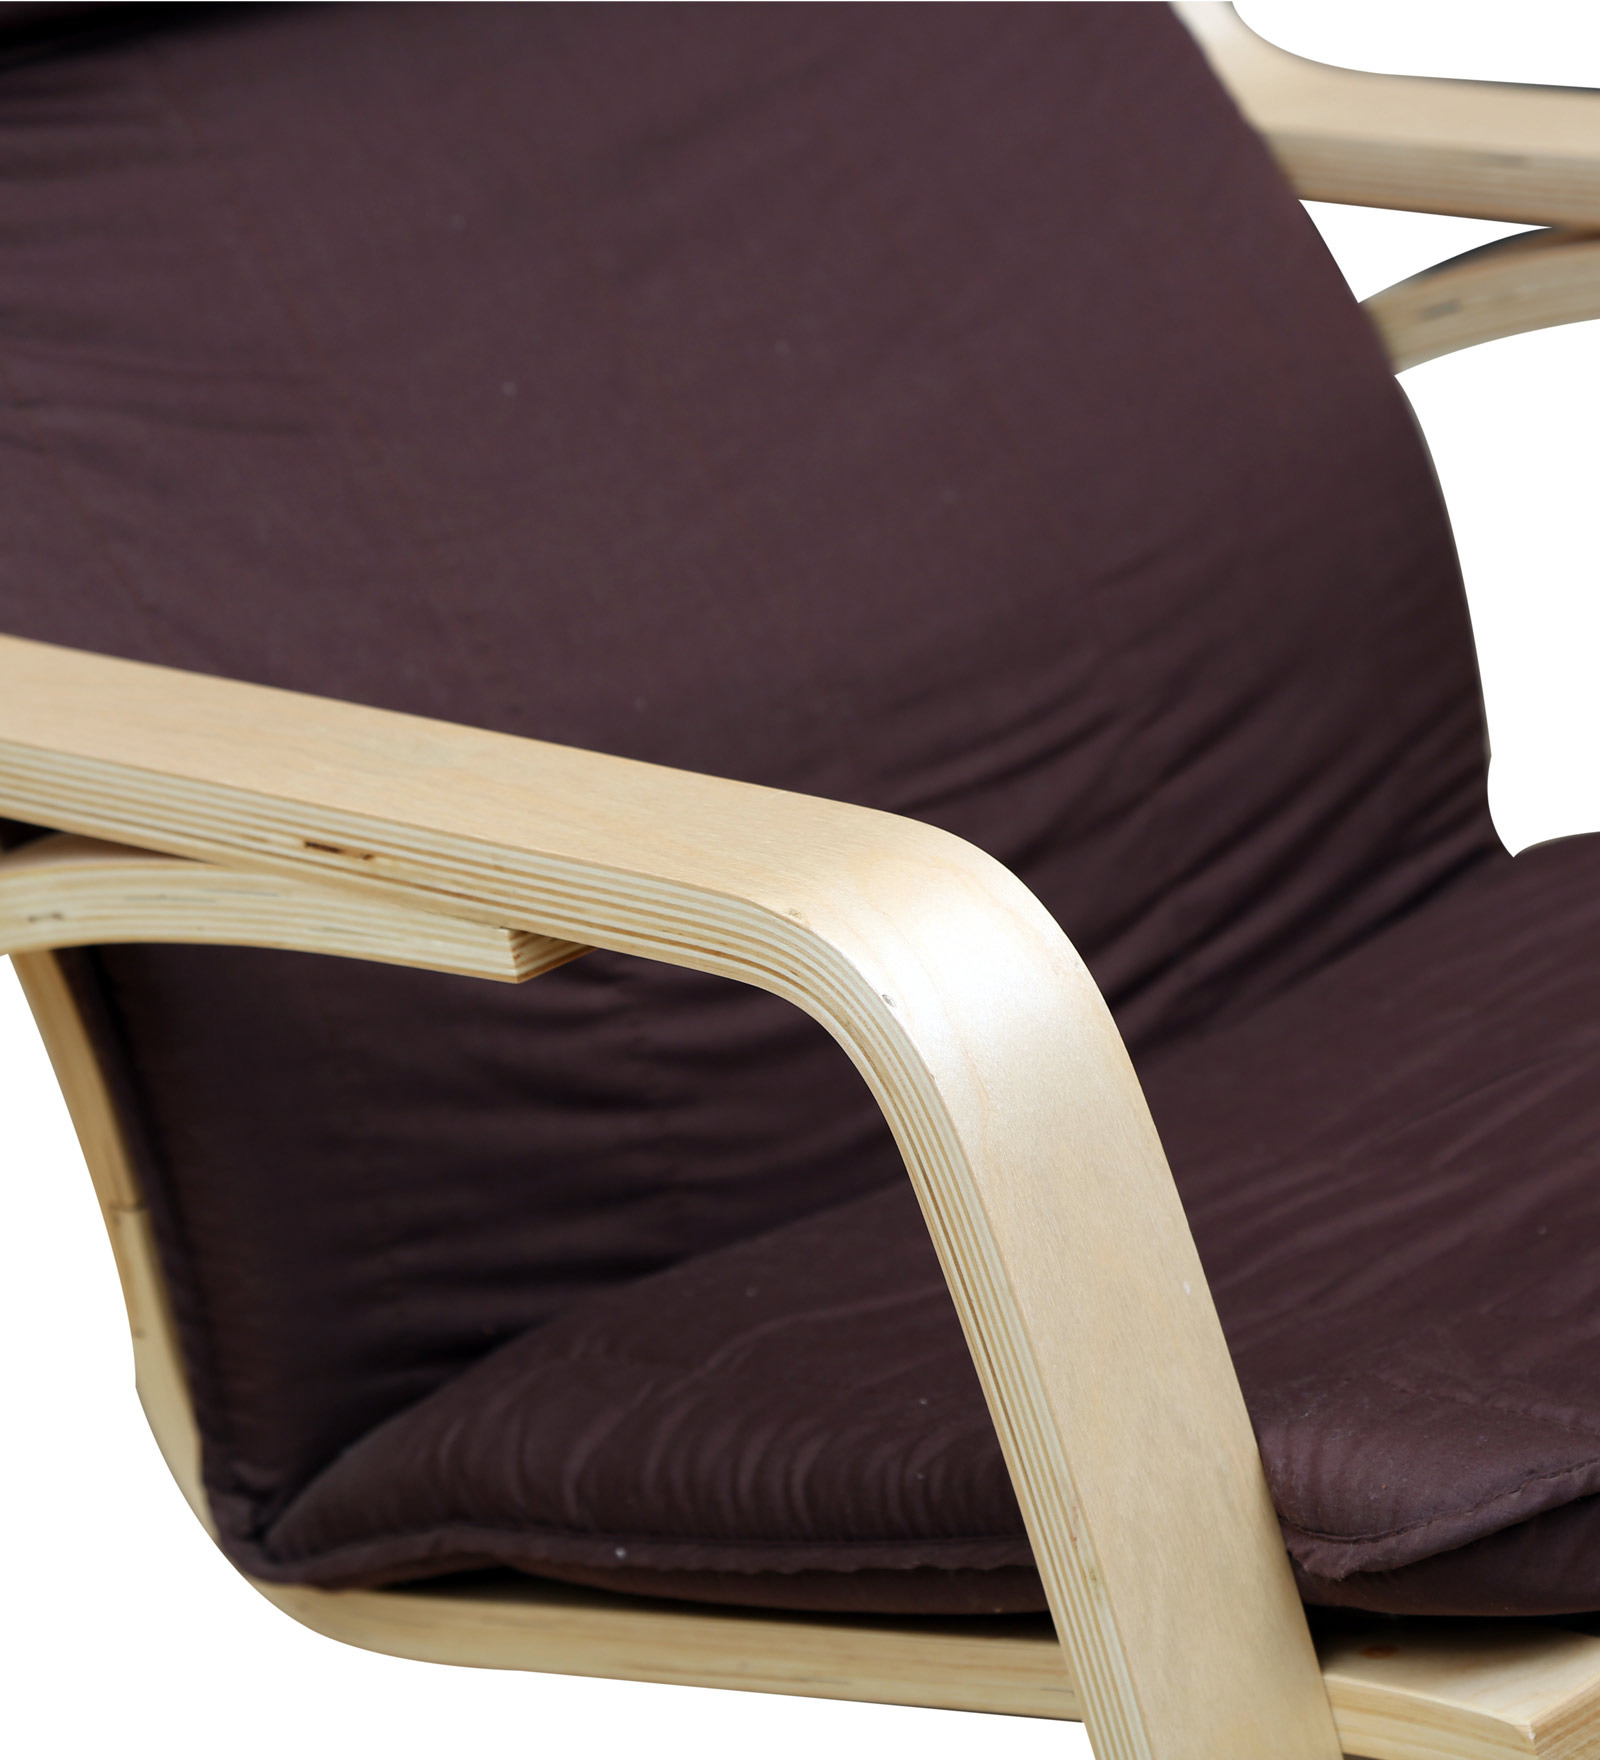Vita Rocking Chair with Brown Cushion by HomeTown: (26, 18, 1600, 1755)
